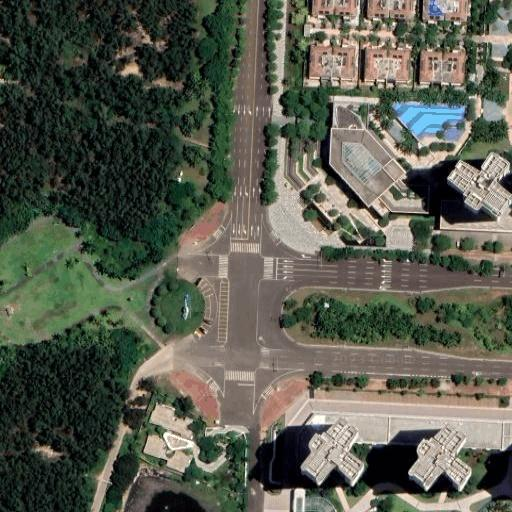building: (326, 130, 404, 208), (407, 430, 470, 497), (302, 422, 364, 487), (450, 159, 512, 223), (136, 427, 191, 470), (309, 47, 353, 80), (365, 49, 409, 80), (419, 52, 463, 83), (385, 120, 408, 143), (366, 198, 388, 220), (487, 20, 509, 36), (483, 99, 499, 120), (294, 491, 306, 512), (500, 7, 512, 21), (491, 48, 507, 58), (303, 25, 310, 37)
